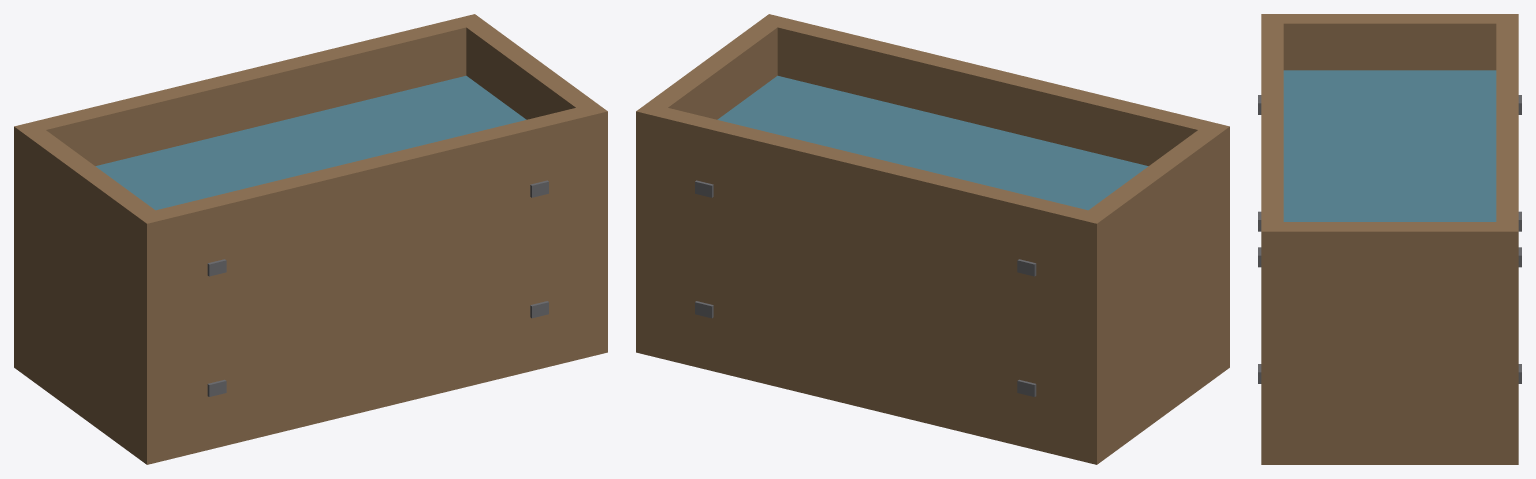
Rendered from quench_tank.fbx.
3 renders of one model, left to right at view 1: azimuth 30°, elevation 25°; view 2: azimuth 150°, elevation 25°; view 3: azimuth 270°, elevation 25°, orthographic. The views are drawn at different scales.
Visible parts, largest first — view 1: quench_tank; view 2: quench_tank; view 3: quench_tank.
Part boxes in pixels (x1=…): quench_tank: x1=14, y1=14, x2=607, y2=464; quench_tank: x1=636, y1=14, x2=1229, y2=464; quench_tank: x1=1258, y1=14, x2=1521, y2=464.
Size of the model in its own units: 0.8 by 0.4 by 0.41.
